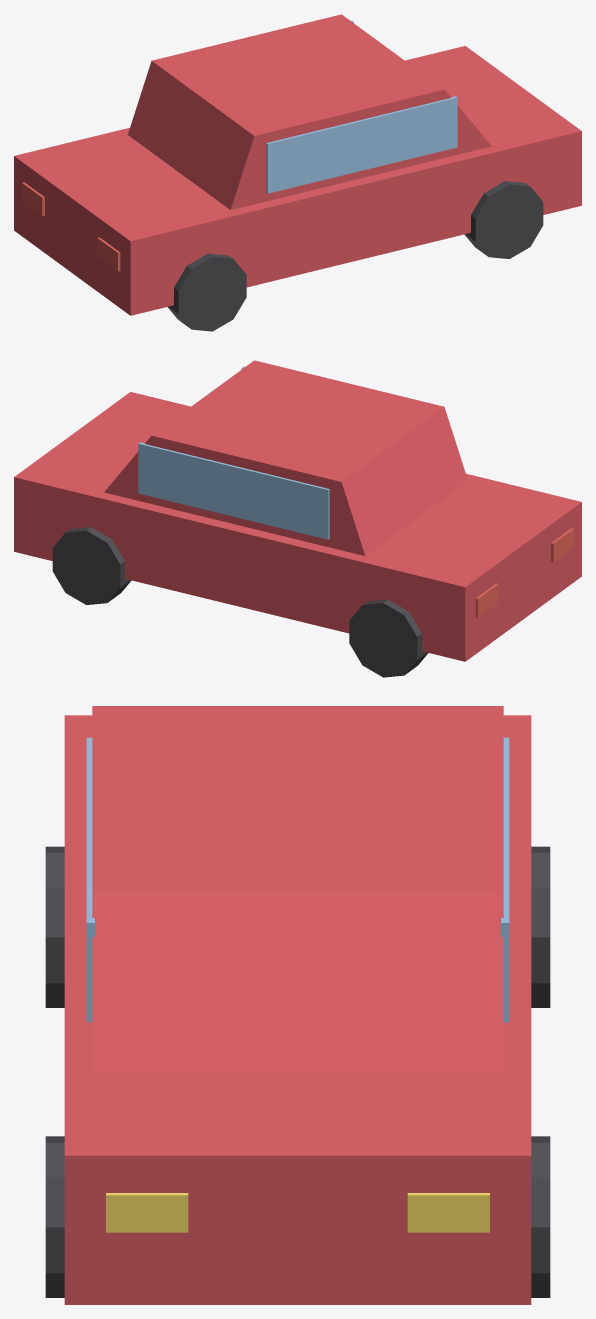
The model's file is city__car_red.fbx.
3 renders of one model, top to bottom at view 1: azimuth 30°, elevation 25°; view 2: azimuth 150°, elevation 25°; view 3: azimuth 270°, elevation 25°, orthographic. The views are drawn at different scales.
Parts seen in each view (by area): view 1: city__car_red; view 2: city__car_red; view 3: city__car_red.
Boxes of the visible parts, left/top/right/bottom form: city__car_red: left=14, top=14, right=581, bottom=331; city__car_red: left=14, top=360, right=581, bottom=677; city__car_red: left=45, top=706, right=550, bottom=1304.
Size of the model in its own units: 3.84 by 1.4 by 1.84.
